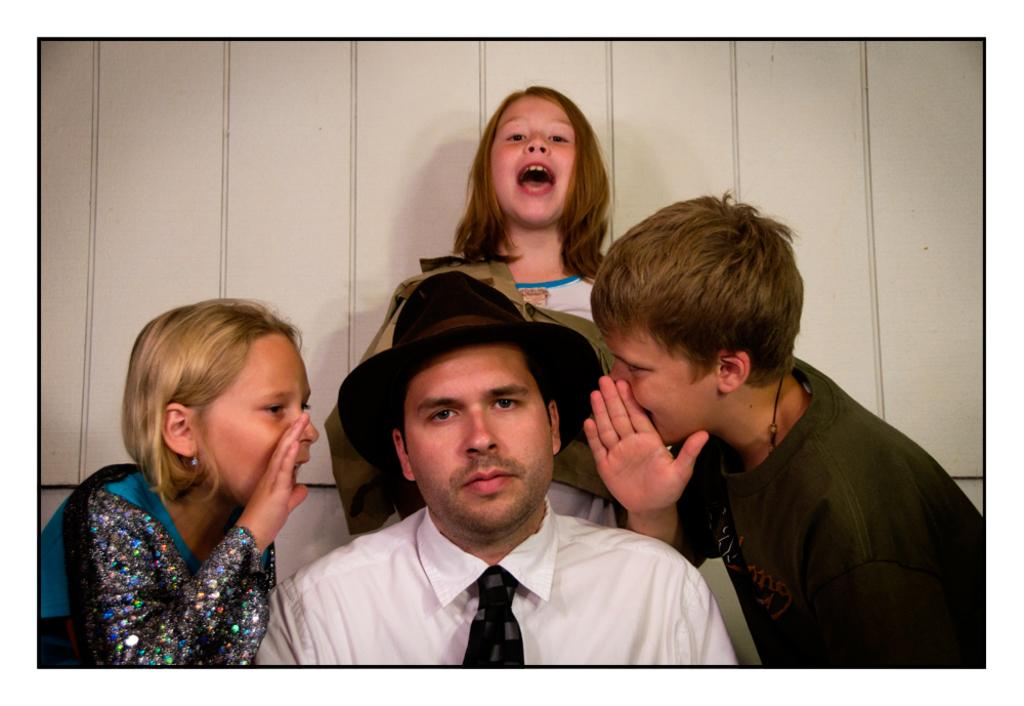Hat: (340, 264, 604, 468)
